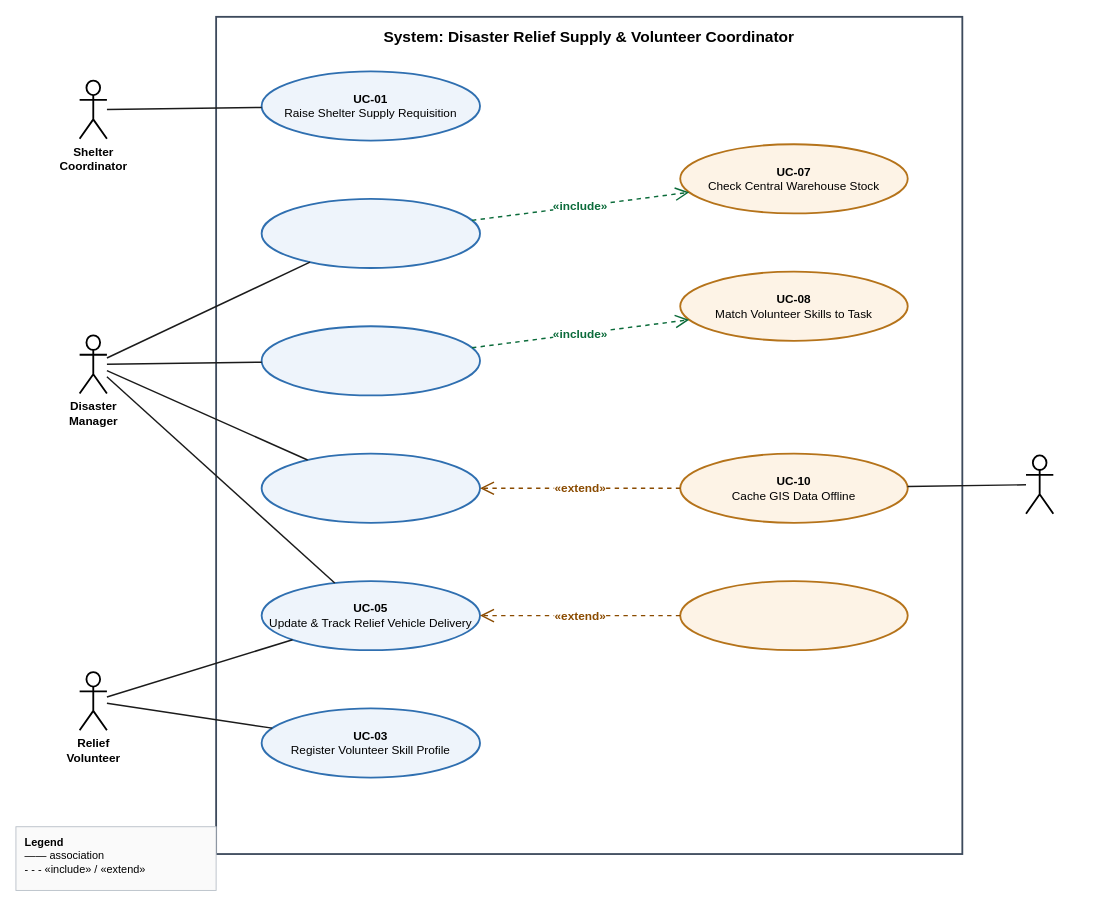
Some shapes in this 1107 by 906 pixel diagram are drawn without their labels. The centre of each missing label's shape, as x and y in pixels:
GIS Data Service «external system»: point (1039, 484)
UC-02 Allocate Supplies & Delivery Priority: point (370, 232)
UC-04 Dispatch Volunteer by Skill Set: point (370, 360)
UC-06 View Disaster Mapping Dashboard: point (370, 487)
UC-09 Reroute Vehicle on Blocked Route: point (793, 615)
